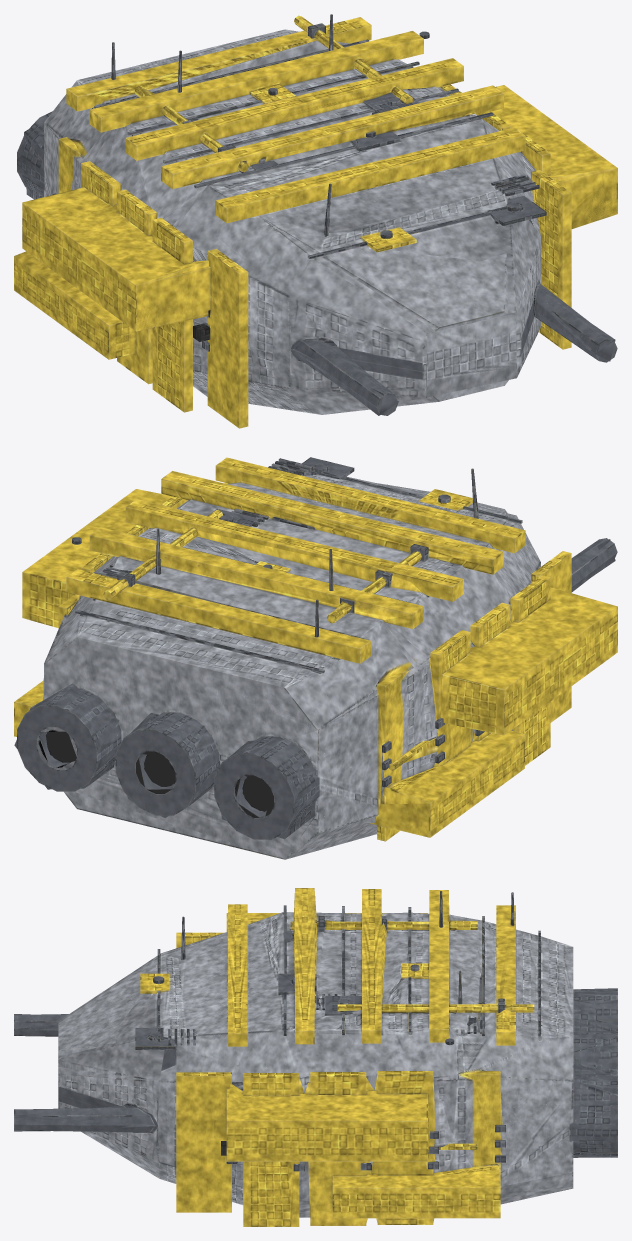
The model's file is sd_npc_brute.glb.
3 views of the same model, one above another, from view 1: azimuth 30°, elevation 25°; view 2: azimuth 150°, elevation 25°; view 3: azimuth 270°, elevation 25° (orthographic). The views are drawn at different scales.
Parts seen in each view (by area): view 1: LOD0_body, LOD1_body; view 2: LOD0_body, LOD1_body; view 3: LOD0_body, LOD1_body.
Part boxes in pixels (x1,y1,x2,y2): LOD0_body: (14, 14, 617, 428); LOD1_body: (14, 29, 617, 415); LOD0_body: (14, 457, 617, 859); LOD1_body: (14, 467, 617, 859); LOD0_body: (14, 888, 617, 1226); LOD1_body: (14, 888, 617, 1222).
Bounding box in the file's own units: 0.8148 × 0.4295 × 1.
Materials: 1 (1 with a texture image).
